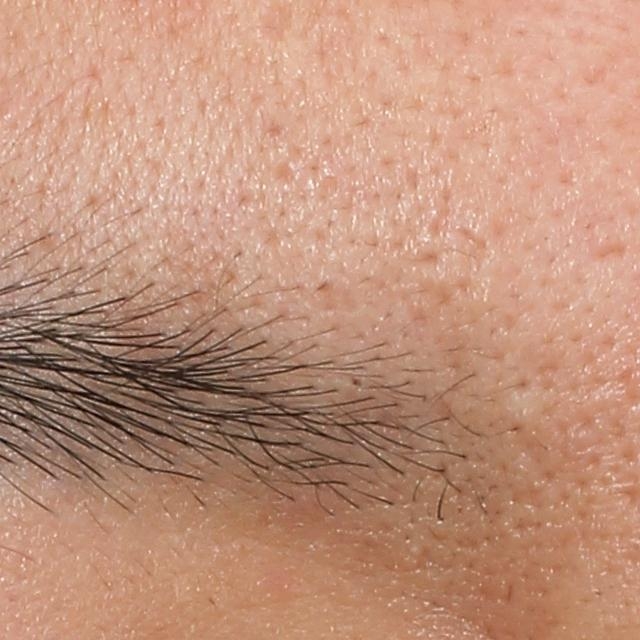atrophic_scar: (590, 242, 631, 262)
comedo: (345, 373, 369, 390)
hypertrophic_scar: (504, 391, 560, 438)
